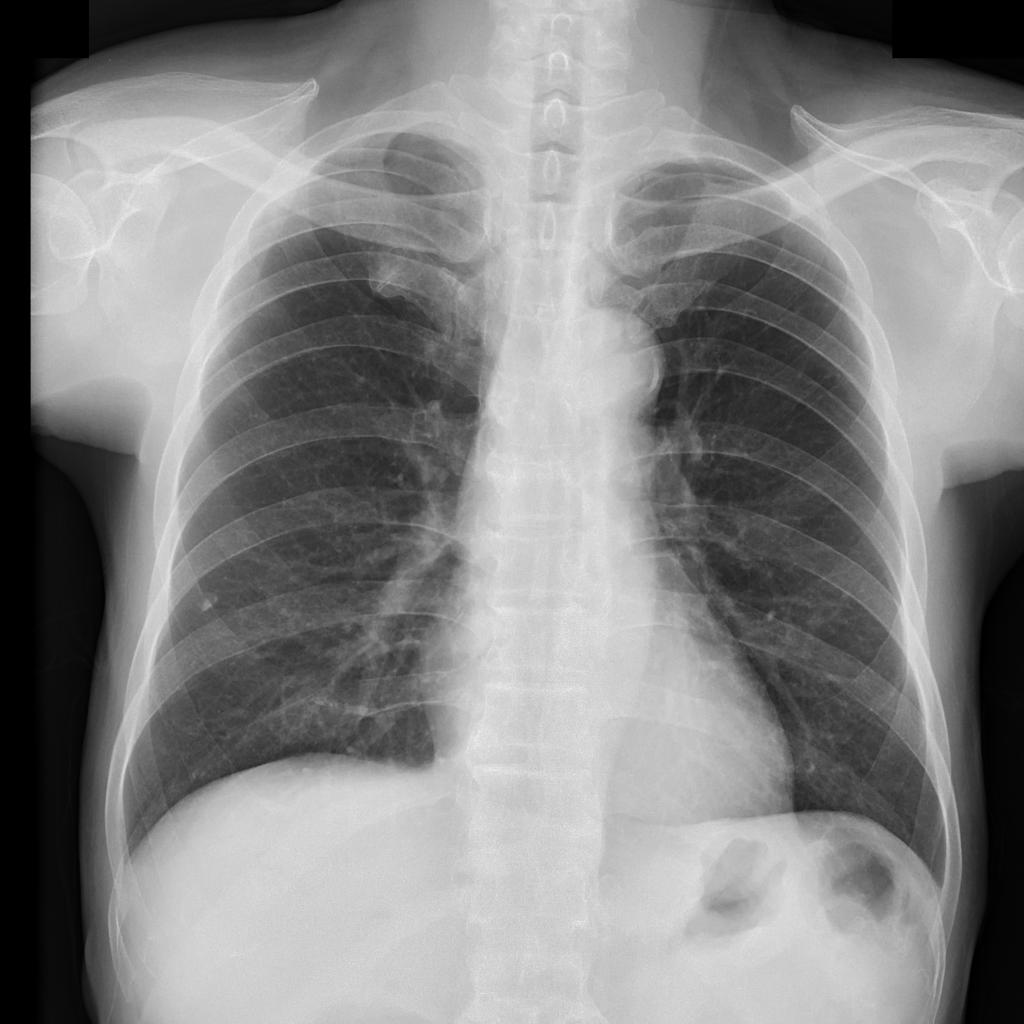Nodule: (202, 595, 220, 613)
